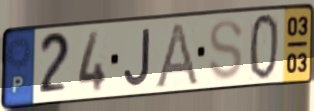0: (247, 11, 281, 82)
2: (36, 29, 74, 101)
4: (76, 28, 109, 95)
A: (151, 20, 201, 91)
J: (122, 26, 152, 89)
S: (206, 17, 245, 83)
